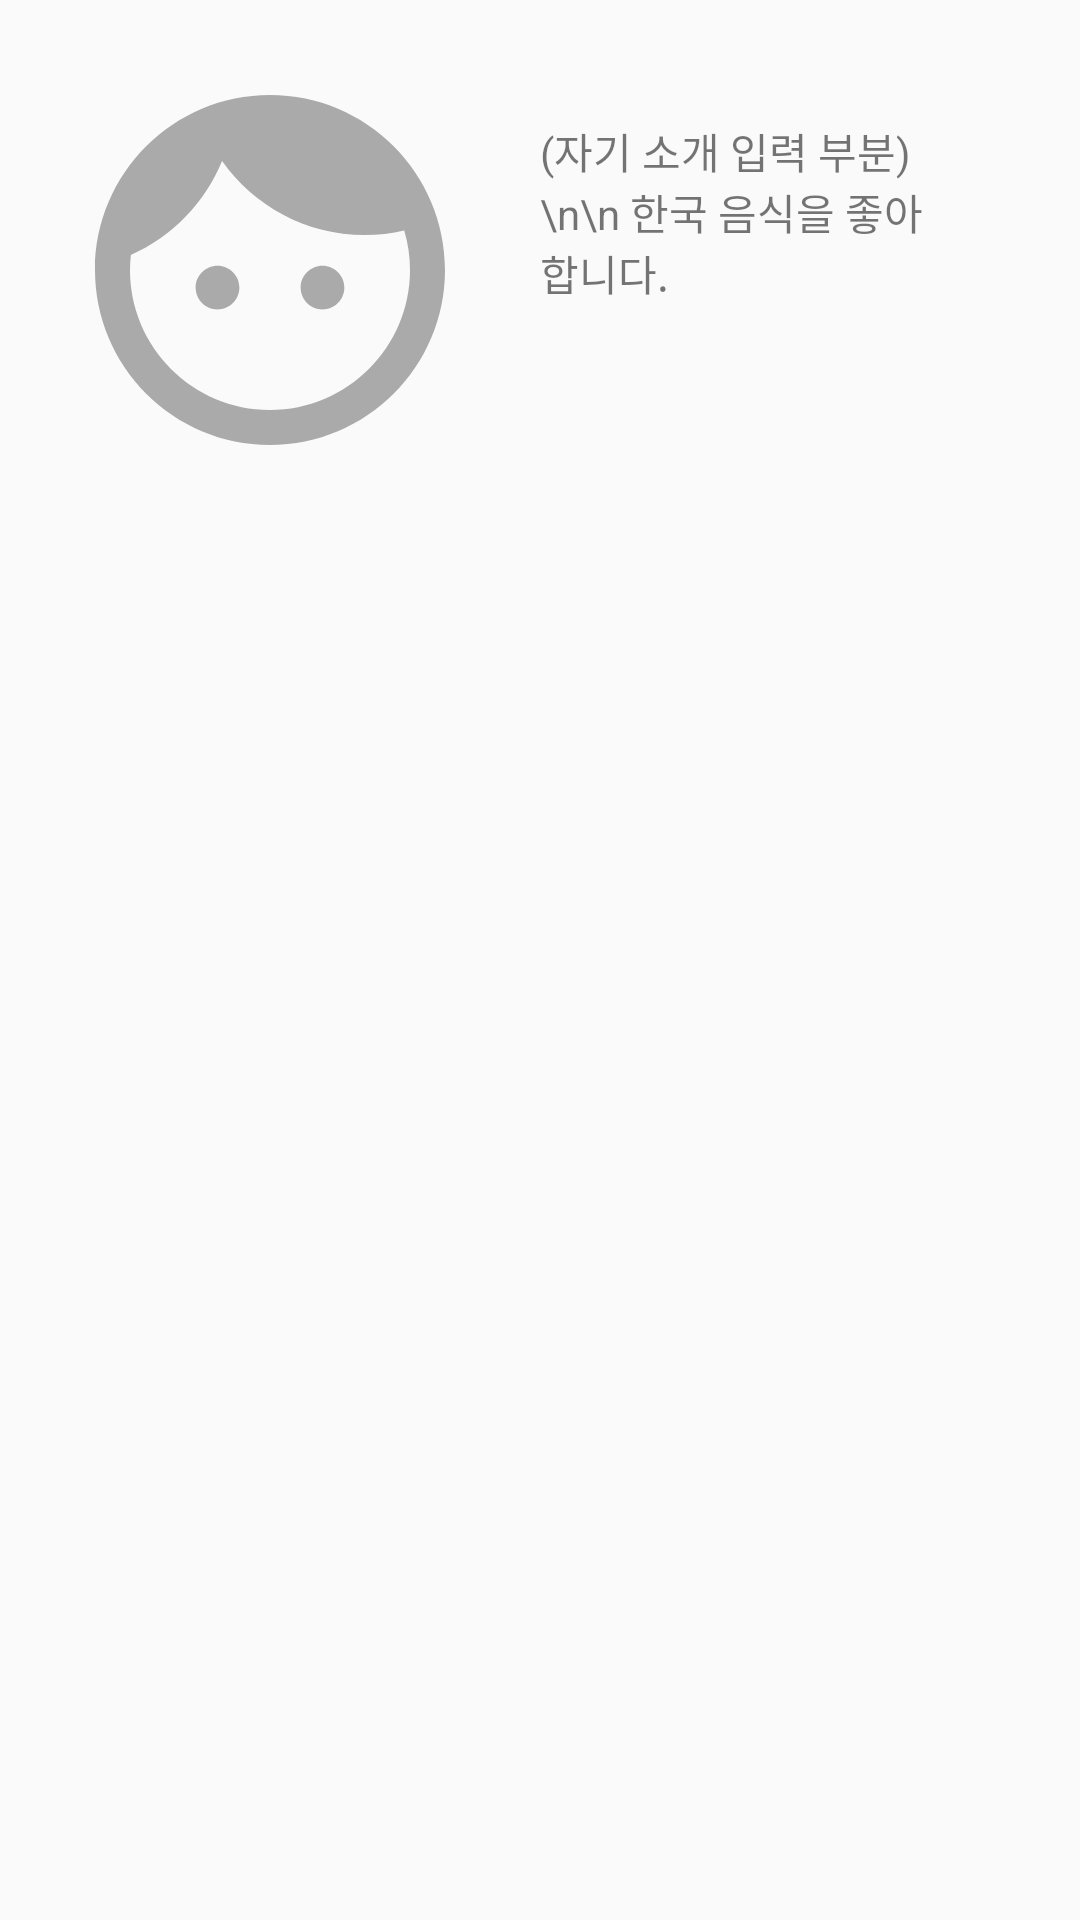

Icon click points for this 1080*1920 phone screenshot, format (x=x, y=y):
face: (x=270, y=270)
